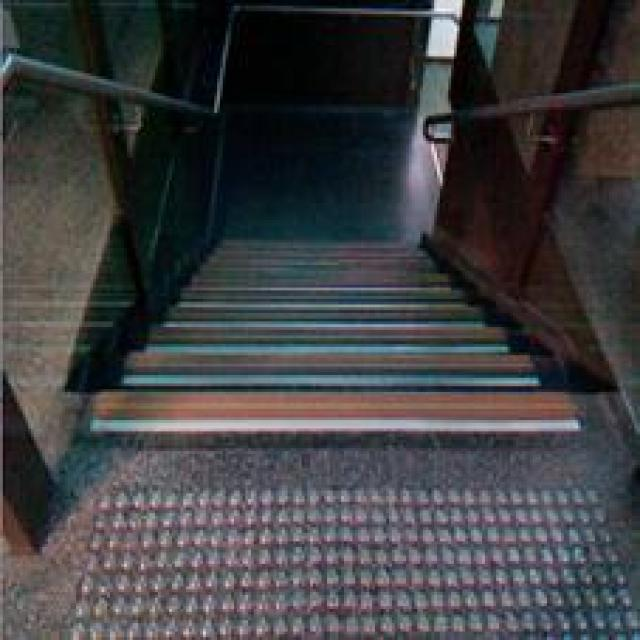downstair: (83, 294, 587, 466)
